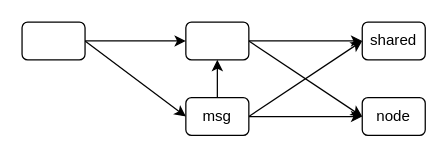
Image size: 447x158. Some labels were removed from this diagram. The shapes that lost their labels are listed below. From the top down, each one's centre as x and y in pixels, then its label:
(53,40): main
(217,40): bsp
